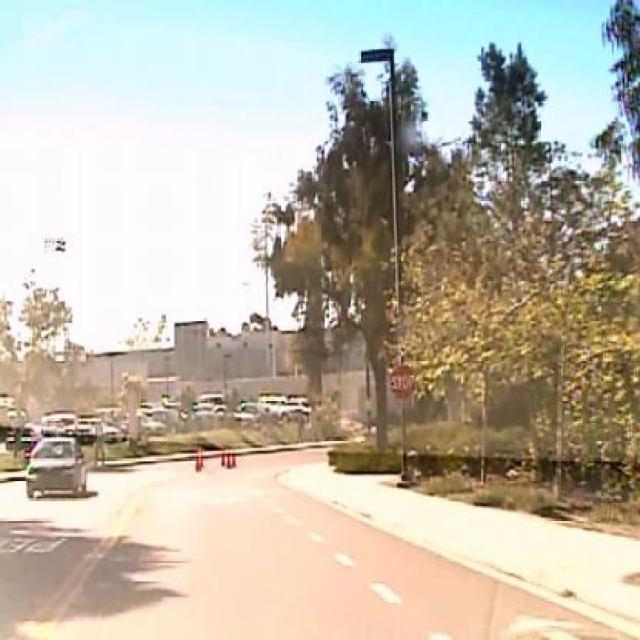stop: (390, 362, 416, 400)
